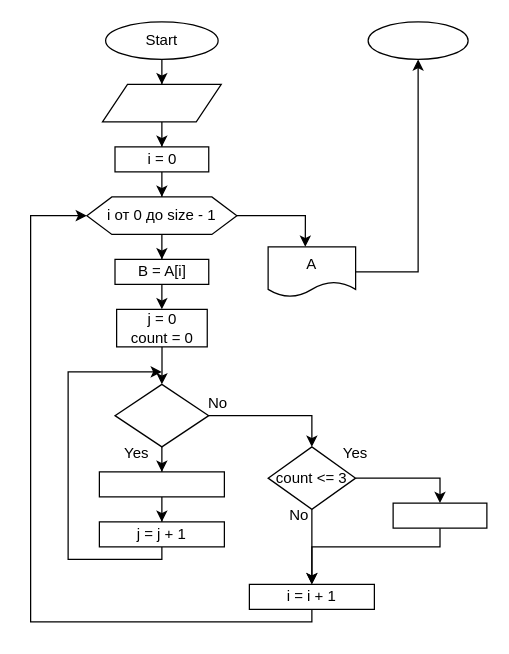
Image size: 509x654. Some labels were removed from this diagram. The centre of each missing label's shape, as x and y in pixels:
"A Size" belongs at point (161, 102).
"A[i] = B" belongs at point (439, 515).
"B[j] > 0" belongs at point (161, 415).
"count = count + 1" belongs at point (161, 484).
"Finish" belongs at point (417, 40).
